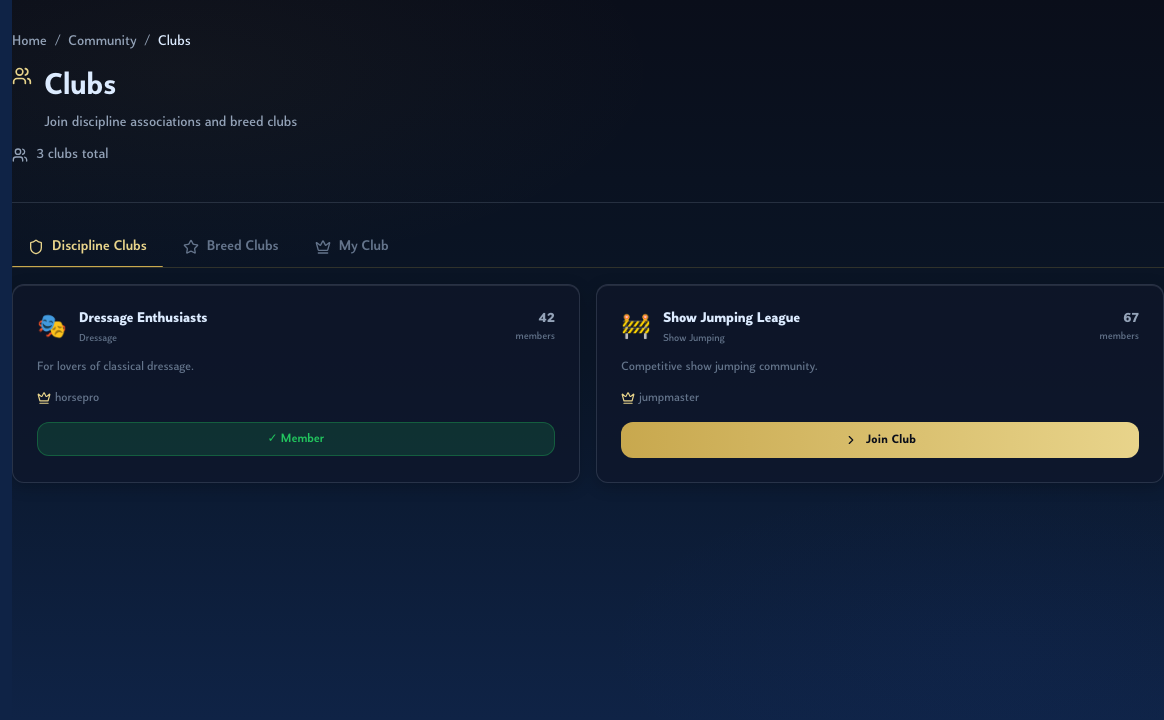
ClubsPage › shows club leaderboard in My Club tab with the boundary clubs
Click the tab with test id "tab-my-club" at (352, 247), box [299,227,405,267]
(page scrolled)
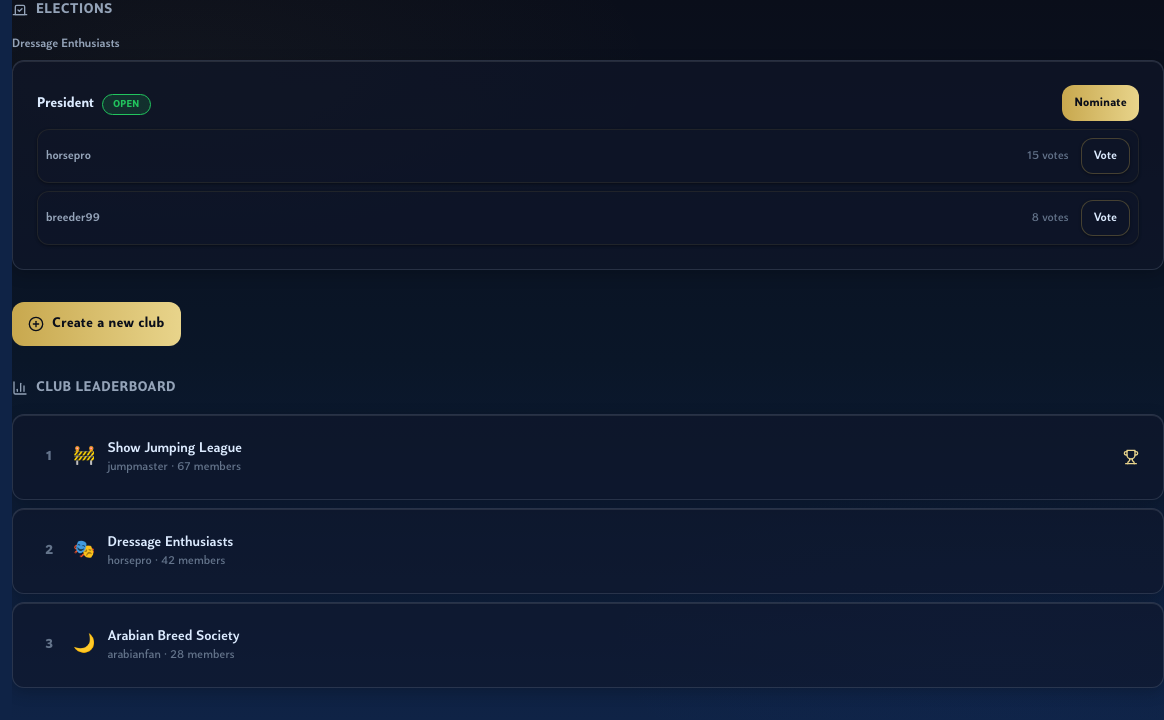
Expected: the element with test id "leaderboard-row-10" is shown, [12,508,1163,594]
Expected: the element with test id "leaderboard-row-11" is shown, [12,602,1163,688]
Expected: the element with test id "leaderboard-row-12" is shown, [12,414,1163,500]
